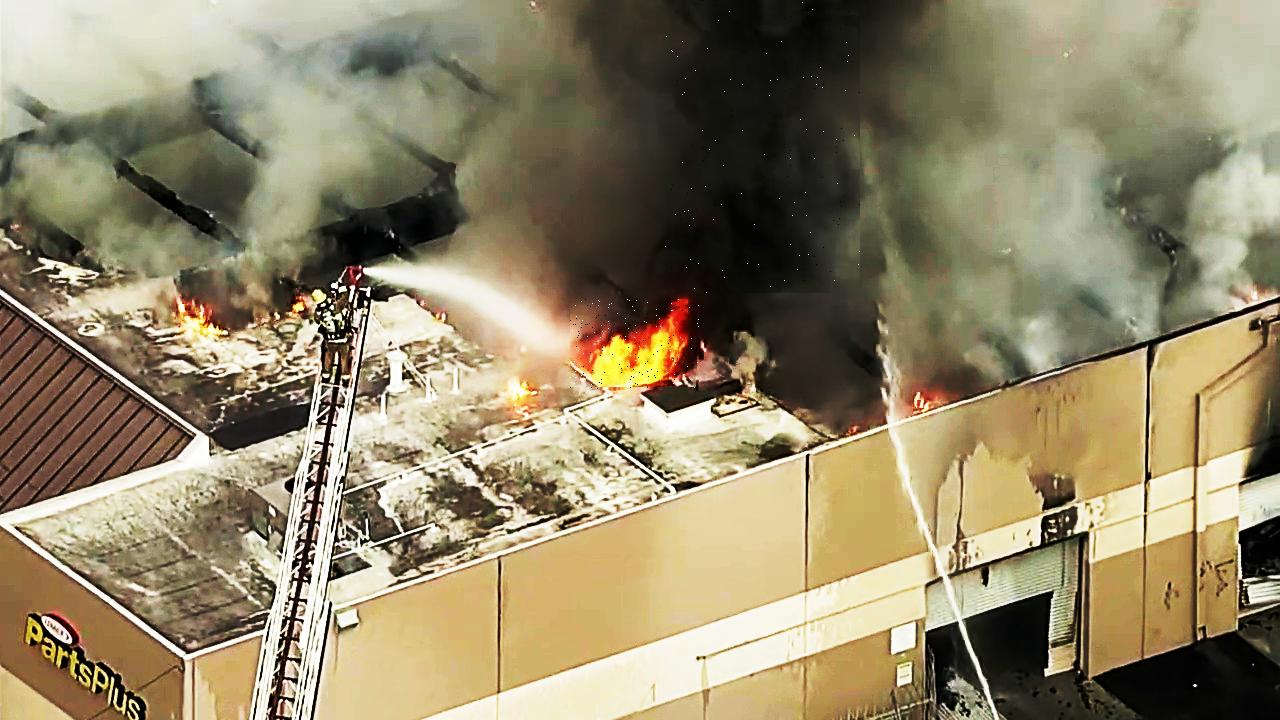fire: (570, 300, 699, 390)
smoke: (665, 0, 860, 293)
